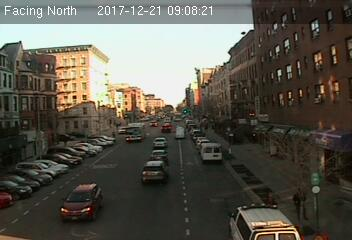bus: (124, 123, 146, 141)
car: (58, 181, 104, 219), (140, 159, 168, 182), (150, 148, 169, 160), (152, 136, 167, 148)
police: (228, 202, 304, 240)
truck: (200, 141, 221, 162), (173, 124, 188, 140)
